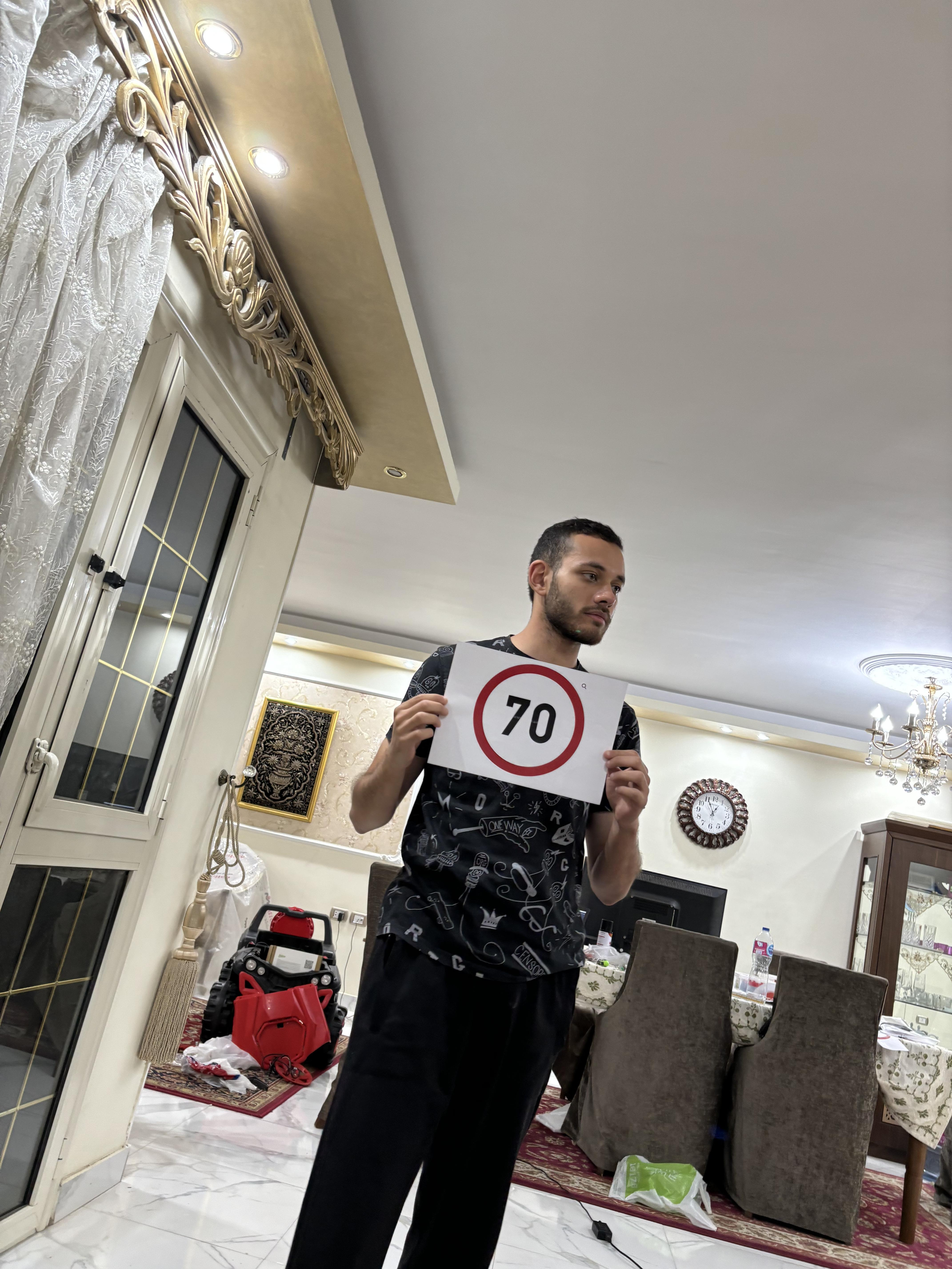70-Speed: (474, 660, 598, 776)
